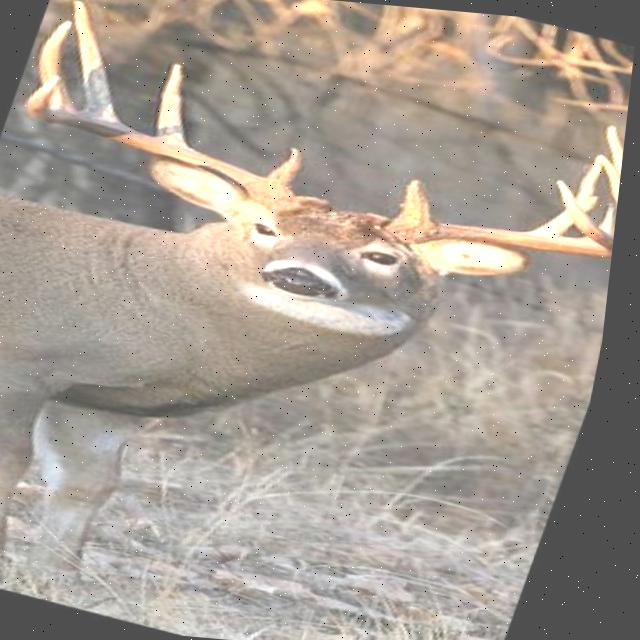L-F: (387, 178, 619, 259)
L-G1: (396, 177, 441, 222)
R-F: (23, 75, 300, 204)
R-G1: (267, 146, 306, 193)
R-G2: (155, 62, 193, 149)
R-G3: (72, 0, 130, 127)
